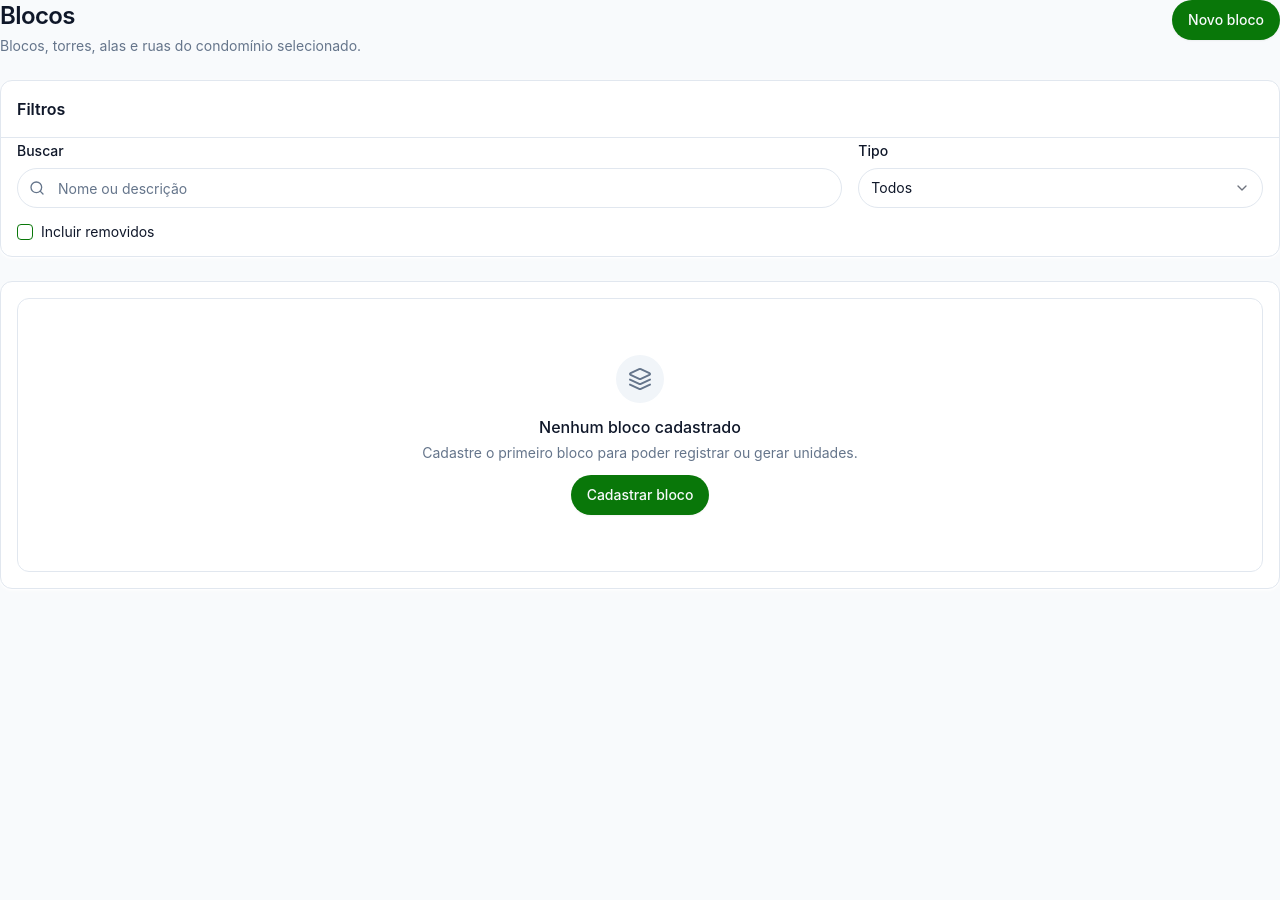
Scenario: Cadastro de bloco › 422 com campo aparece no campo, sem toast
Expected: the text "Nenhum bloco cadastrado" is shown, [539,417,741,437]
Click the button "Cadastrar bloco" at (640, 495), box [571,475,709,515]
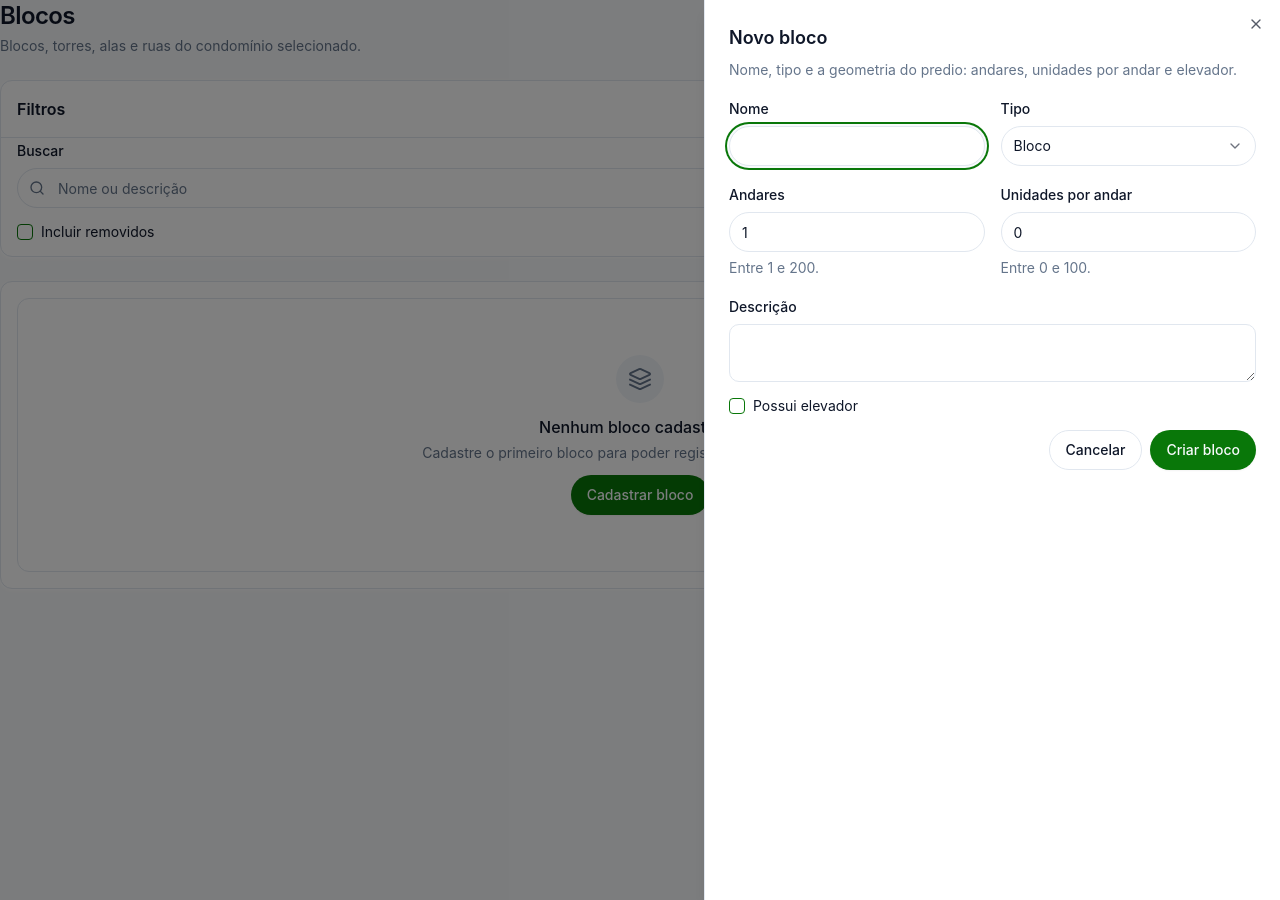
Type "Torre C" into the field labelled "Nome" at (857, 146), box [729,126,984,166]
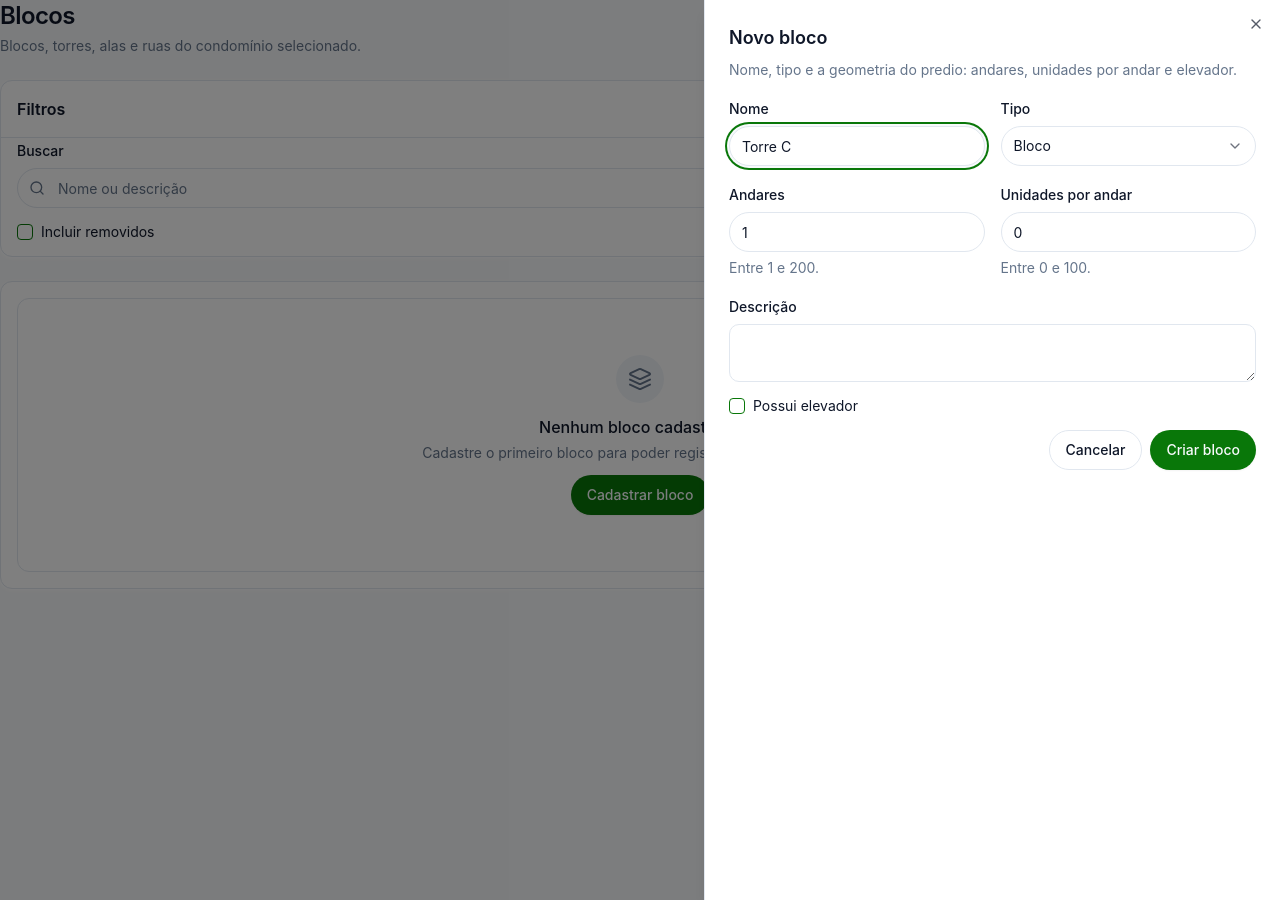
Click the button "Criar bloco" at (1203, 450), box [1150,430,1256,470]
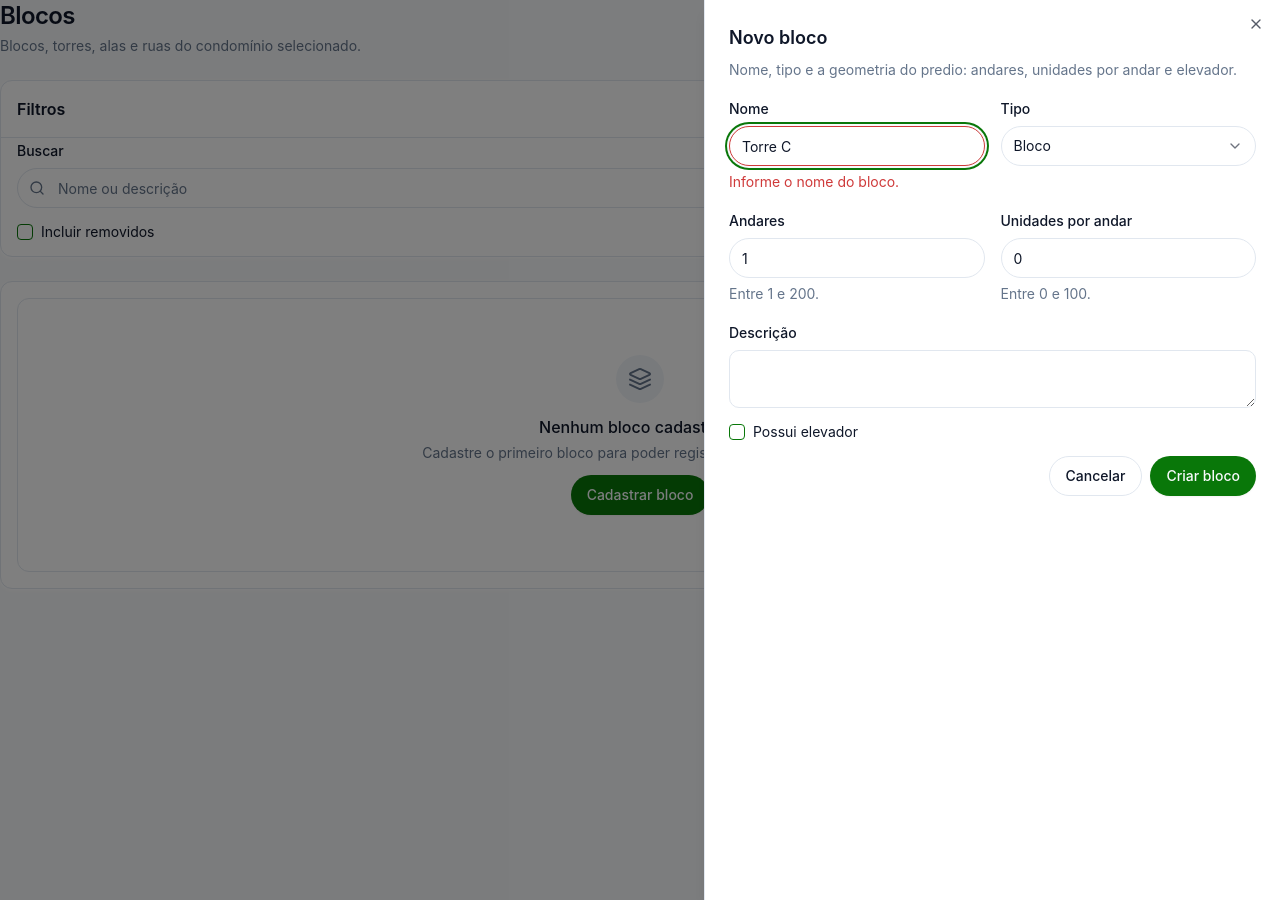
Result: the text "Informe o nome do bloco." is shown at [729,173,899,190]
